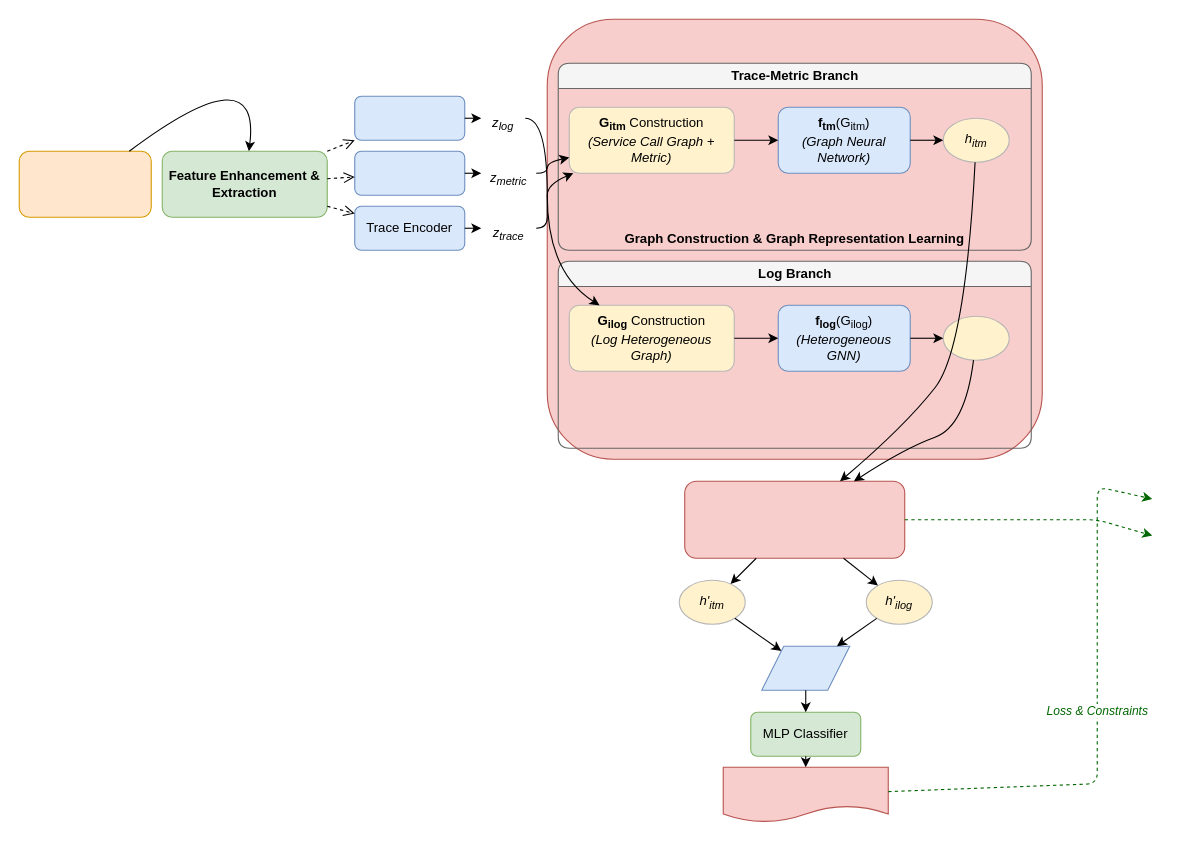
Some shapes in this 1180 by 842 pixel diagram are drawn without their labels. Here are the shapes that lost their labels. From the top down, the centre of each, then its label:
At point 409,117: "Log Encoder".
At point 84,183: "Raw Data Input (Metric, Log, Trace)".
At point 409,172: "Metric Encoder".
At point 975,337: "h ilog".
At point 794,519: "Cross-Modal Fusion (Uncertainty-aware Hierarchical Dynamic Fusion)".
At point 805,667: "Concat".
At point 805,794: "Anomaly Probability ( y i )".
